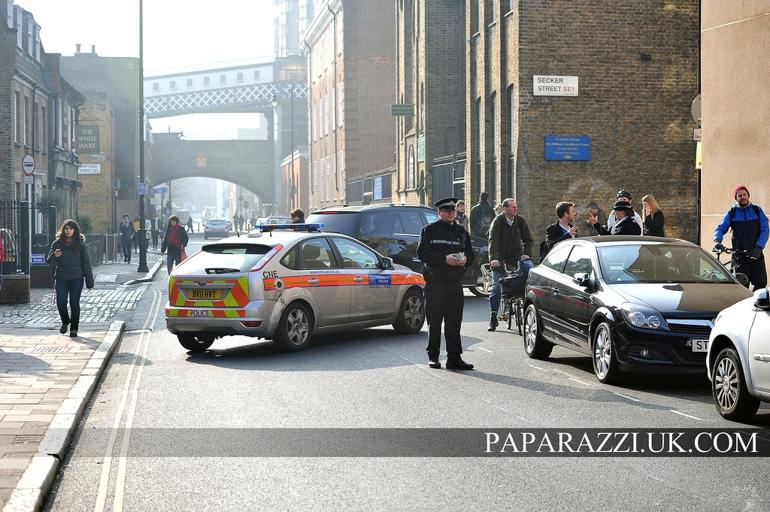non-vehicle: (488, 257, 532, 336), (701, 242, 756, 284)
